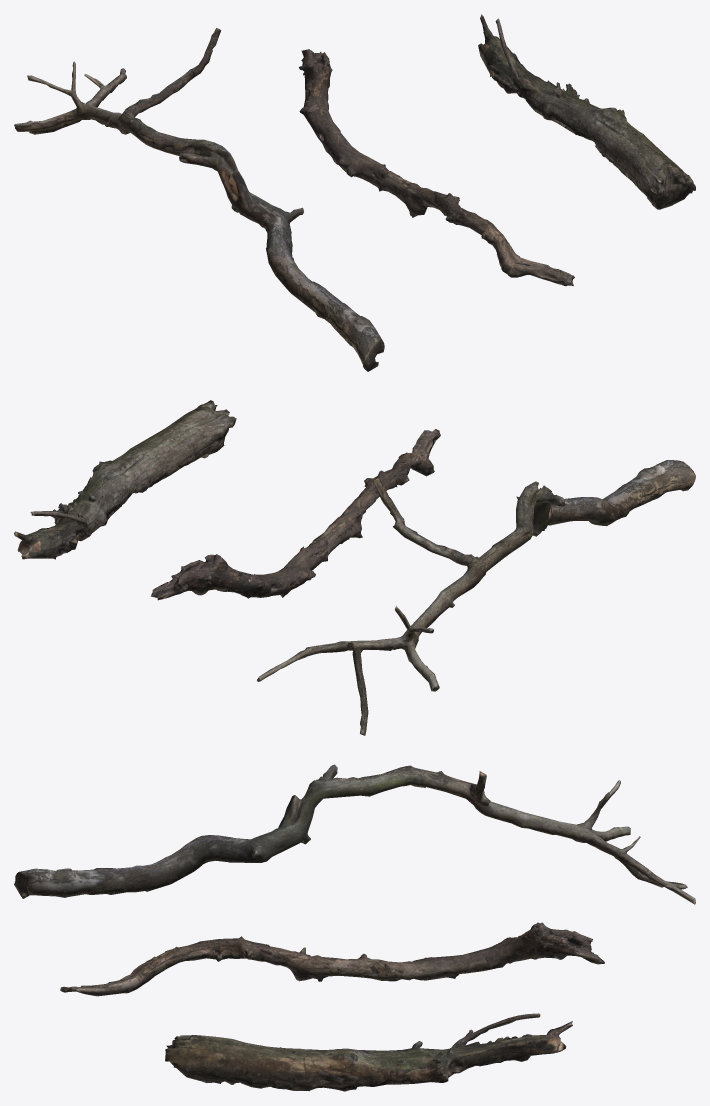
Rendered from dry_branches_medium_01.gltf.
3 renders of one model, top to bottom at view 1: azimuth 30°, elevation 25°; view 2: azimuth 150°, elevation 25°; view 3: azimuth 270°, elevation 25°, orthographic. The views are drawn at different scales.
Visible parts, largest first — view 1: dry_branches_medium_01_a, dry_branches_medium_01_c, dry_branches_medium_01_b; view 2: dry_branches_medium_01_a, dry_branches_medium_01_c, dry_branches_medium_01_b; view 3: dry_branches_medium_01_a, dry_branches_medium_01_c, dry_branches_medium_01_b.
Boxes of the visible parts, x1,y1,x2,y2 form: dry_branches_medium_01_a: (14, 28, 384, 371); dry_branches_medium_01_c: (478, 14, 695, 209); dry_branches_medium_01_b: (299, 49, 574, 286); dry_branches_medium_01_a: (257, 460, 695, 735); dry_branches_medium_01_c: (14, 400, 236, 559); dry_branches_medium_01_b: (150, 429, 440, 600); dry_branches_medium_01_a: (14, 764, 695, 904); dry_branches_medium_01_c: (165, 1013, 572, 1091); dry_branches_medium_01_b: (60, 922, 604, 996).
Size of the model in its own units: 1.06 by 0.341 by 1.3.
1 material, 1 textured.
